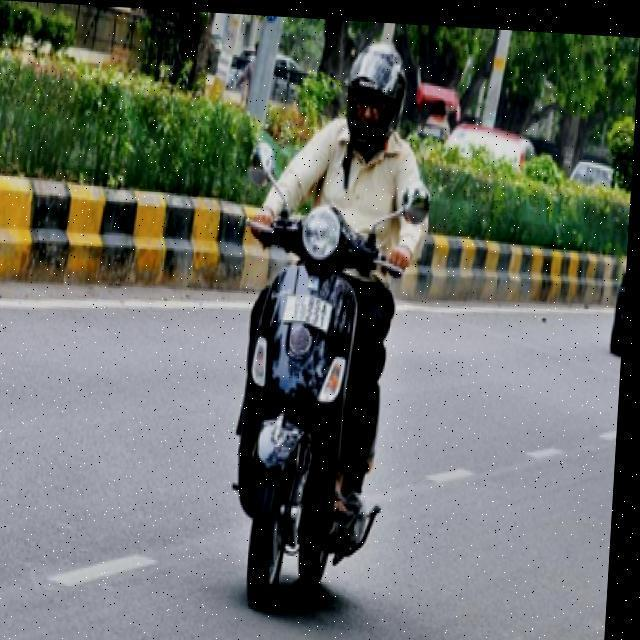Helmet: (340, 30, 410, 148)
